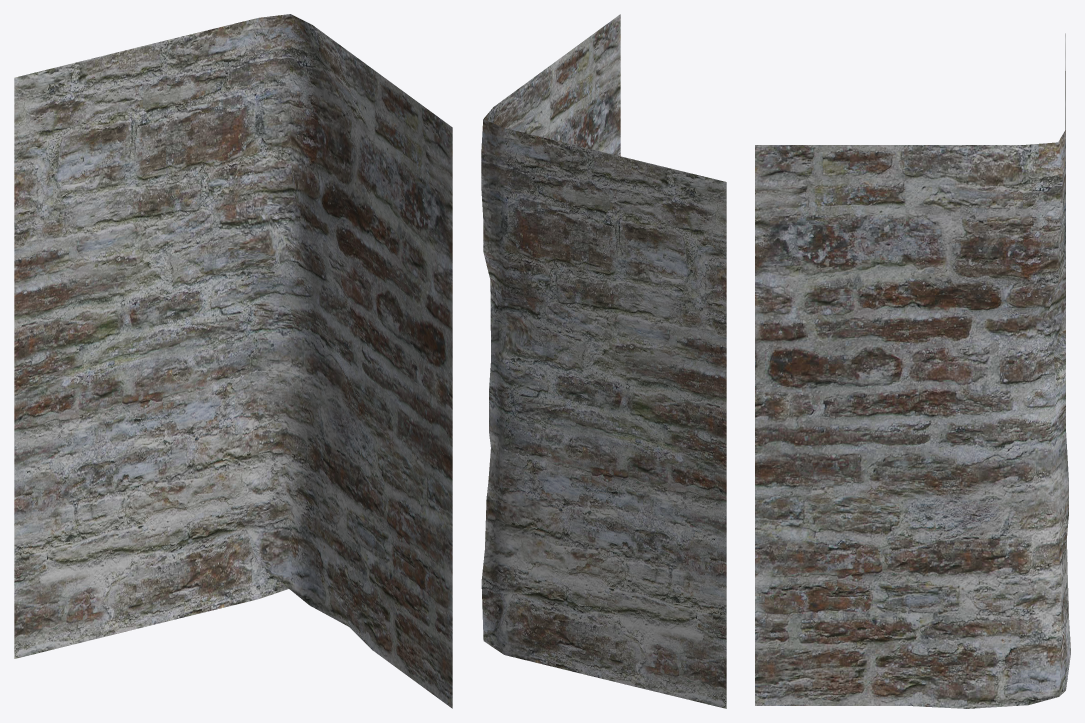
File: 2dwall_corner.FBX
The picture shows the model from 3 angles, left to right: view 1: azimuth 30°, elevation 25°; view 2: azimuth 150°, elevation 25°; view 3: azimuth 270°, elevation 25°; orthographic projection. The views are drawn at different scales.
Parts seen in each view (by area): view 1: 2dwall_corner; view 2: 2dwall_corner; view 3: 2dwall_corner.
Part boxes in pixels (box(x1,y1,x2,y2)): 2dwall_corner: box(14, 14, 452, 708); 2dwall_corner: box(481, 14, 726, 708); 2dwall_corner: box(755, 33, 1070, 708).
Size of the model in its own units: 207 by 204 by 400.
